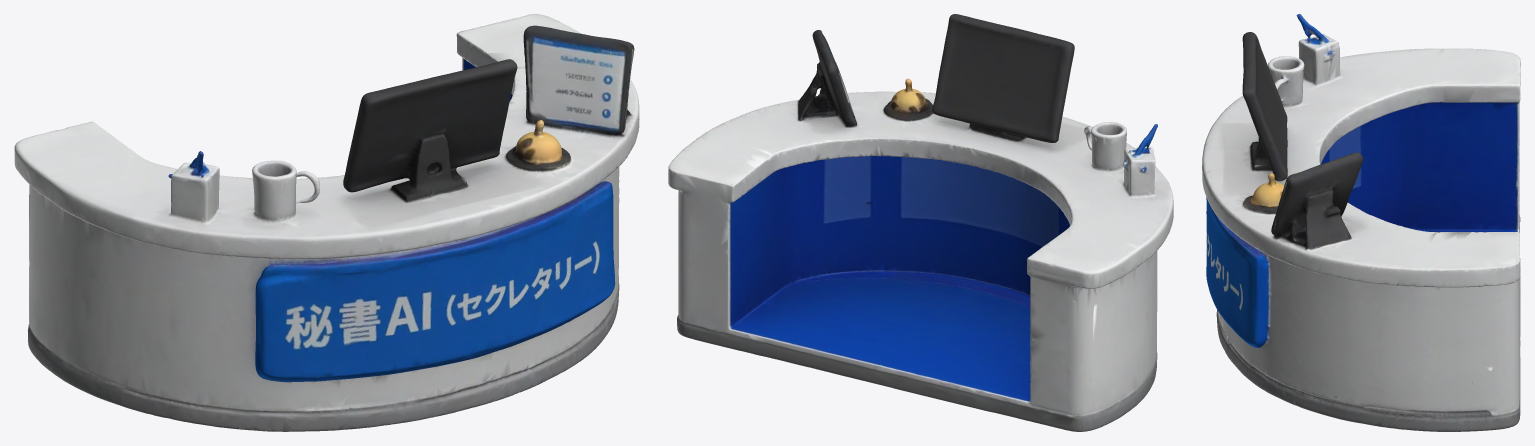
The model's file is reception-desk.glb.
3 renders of one model, left to right at view 1: azimuth 30°, elevation 25°; view 2: azimuth 150°, elevation 25°; view 3: azimuth 270°, elevation 25°, orthographic. The views are drawn at different scales.
Bounding box in the file's own units: 2 × 1.12 × 1.21.
Materials: 1 (1 with a texture image).
